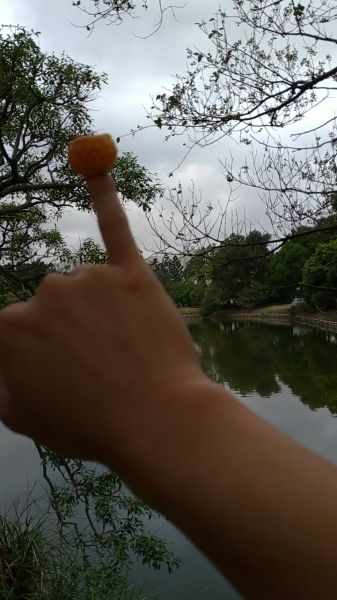eggs: (65, 134, 121, 176)
